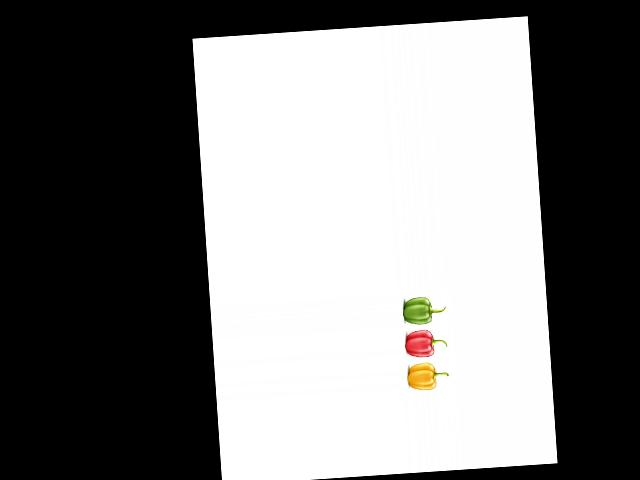bell_pepper: (399, 292, 446, 325)
